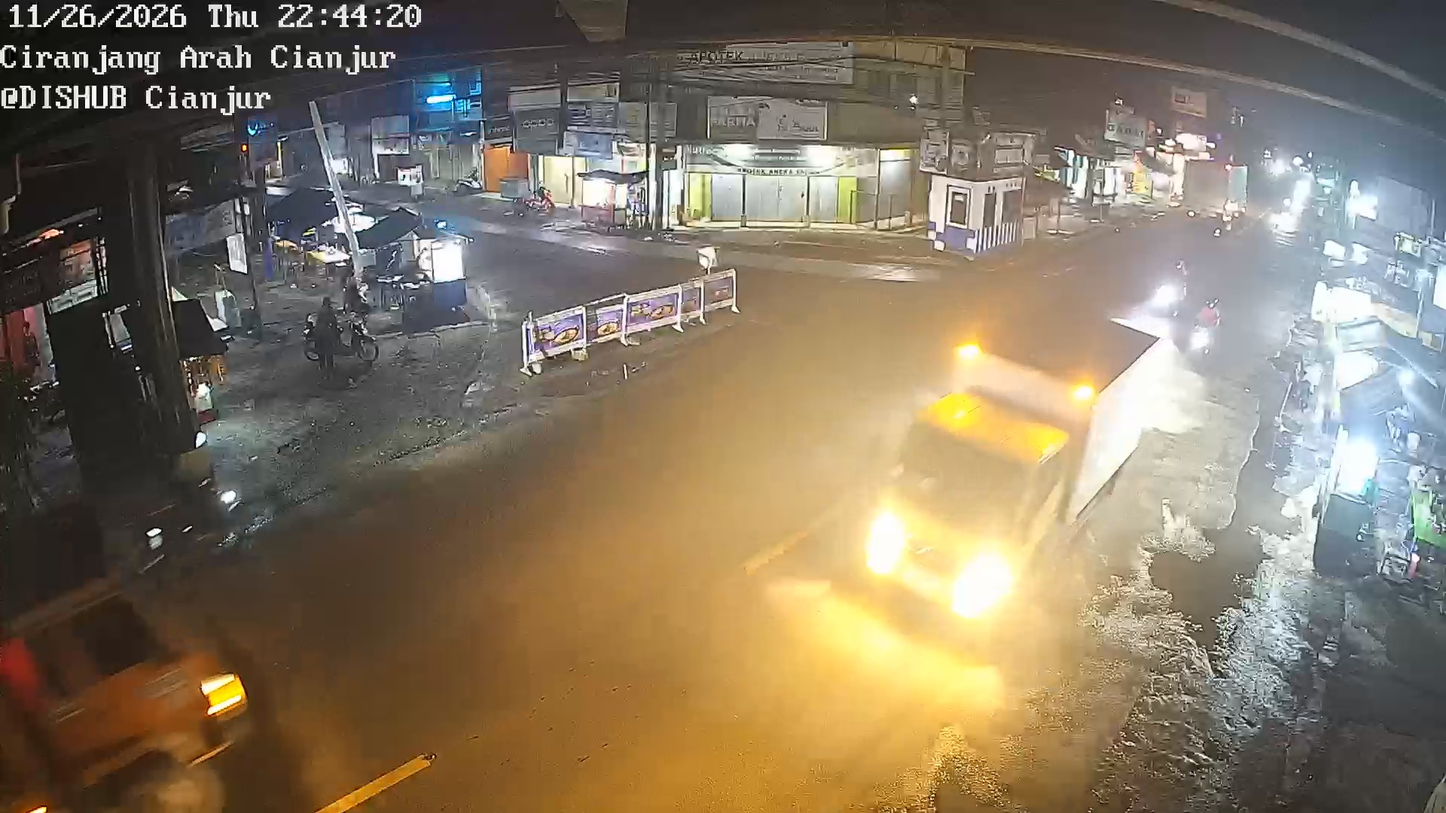Gerobak: (398, 218, 470, 322), (573, 167, 639, 237)
